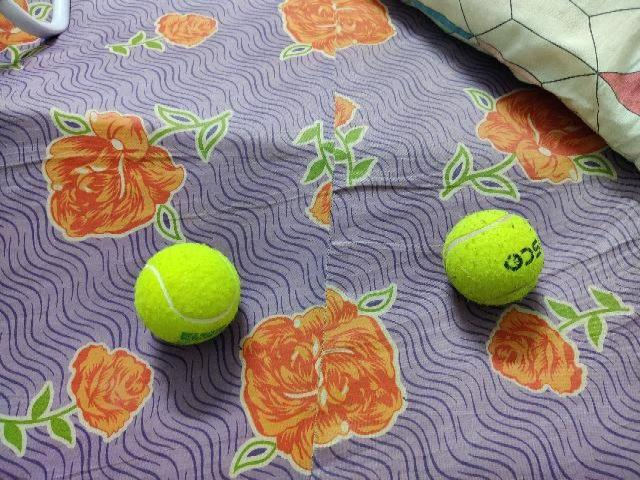tennis-ball: (134, 241, 240, 345), (442, 209, 544, 305)
